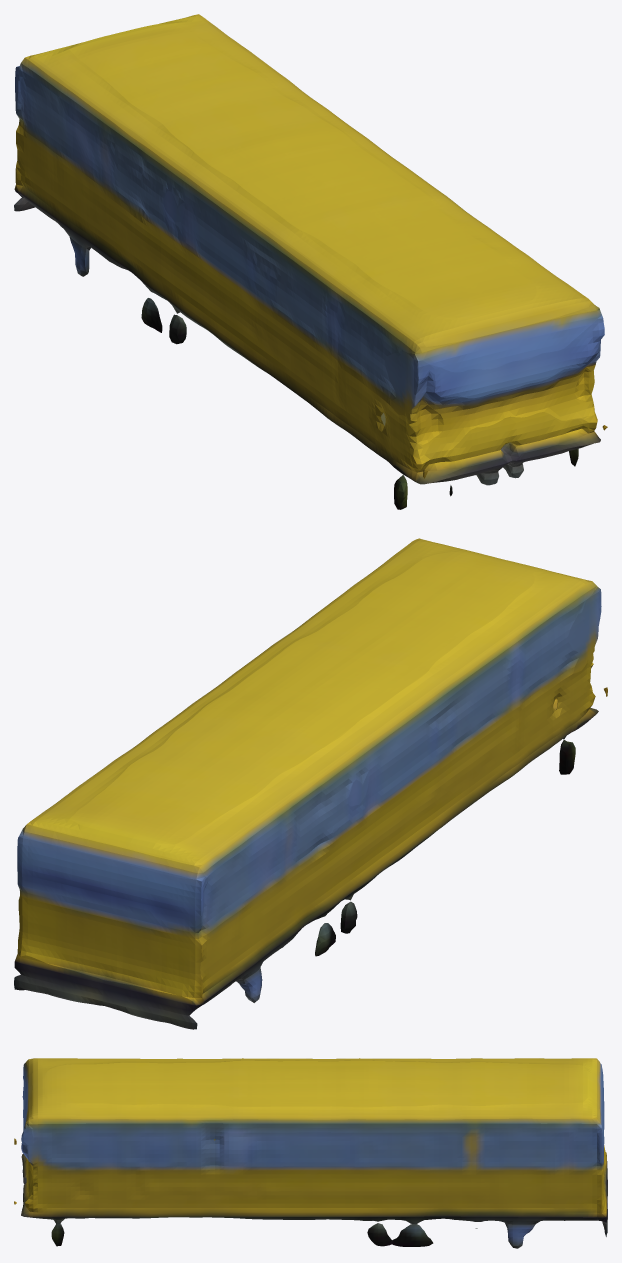
3 renders of one model, top to bottom at view 1: azimuth 30°, elevation 25°; view 2: azimuth 150°, elevation 25°; view 3: azimuth 270°, elevation 25°, orthographic. The views are drawn at different scales.
Visible parts, largest first — view 1: geometry_0; view 2: geometry_0; view 3: geometry_0.
Part boxes in pixels (left/top/right/bottom): geometry_0: left=14, top=14, right=607, bottom=509; geometry_0: left=14, top=538, right=607, bottom=1029; geometry_0: left=14, top=1058, right=607, bottom=1248.
Bounding box in the file's own units: 0.4181 × 0.4101 × 1.6.
